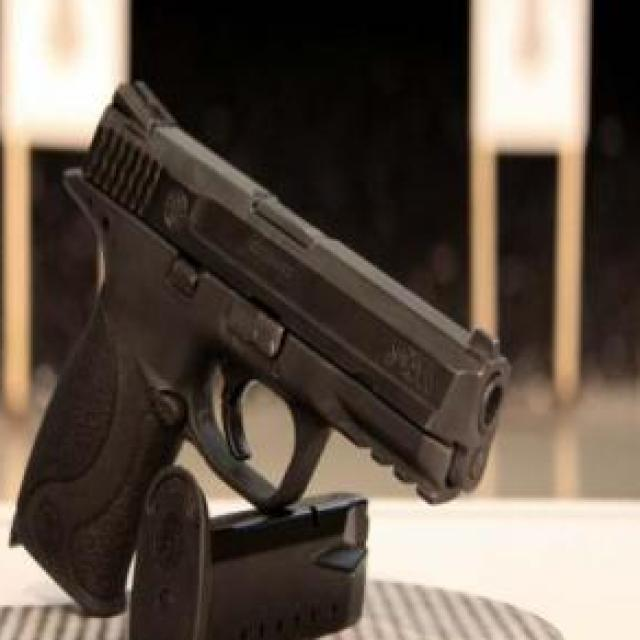pistol: (10, 40, 506, 624)
